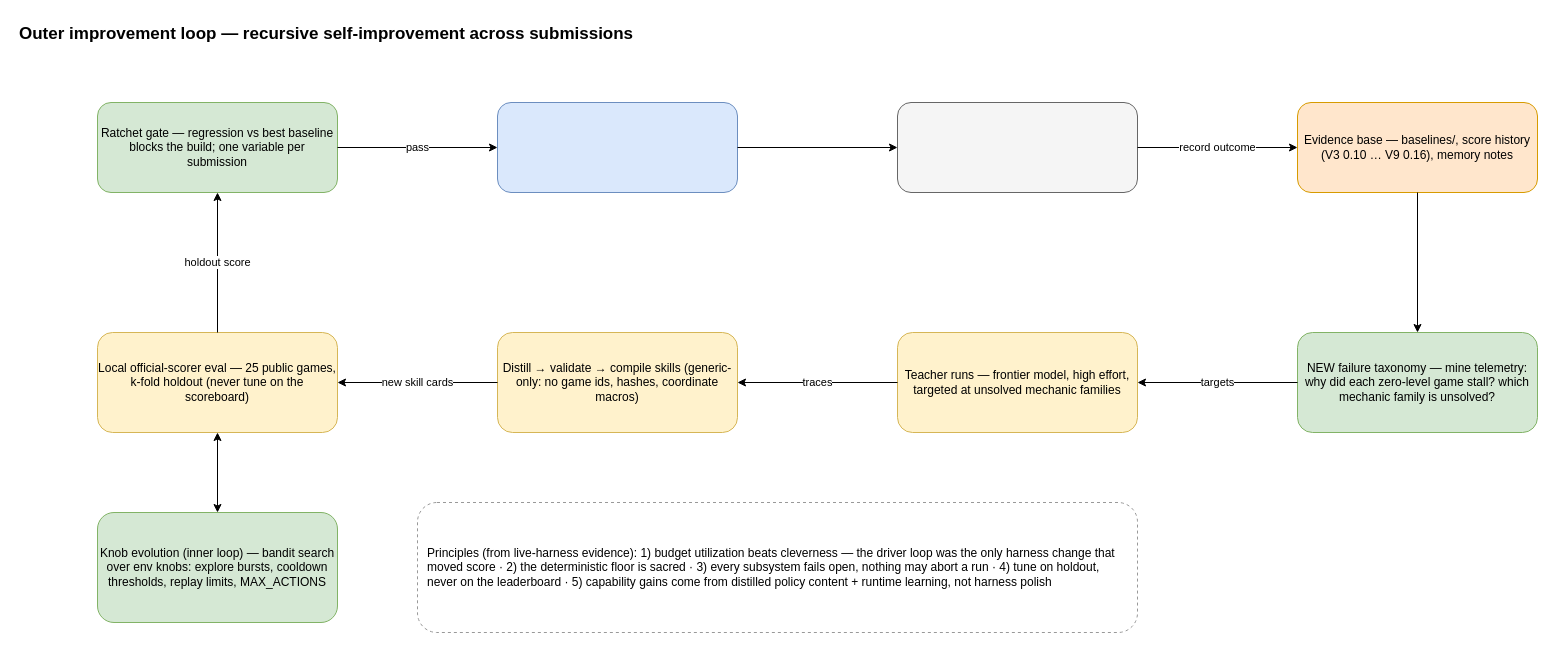
Image size: 1555x650. Some labels were removed from this diagram. The shapes that lost their labels are listed below. From the top down, each one's box as (x1, y1, x2, y2) in pixels, then its label:
(496, 102, 738, 192): Build + submit — deterministic variant (Gemma off), metadata synced
(896, 102, 1138, 192): Kaggle rerun — private (unseen) games → leaderboard score
